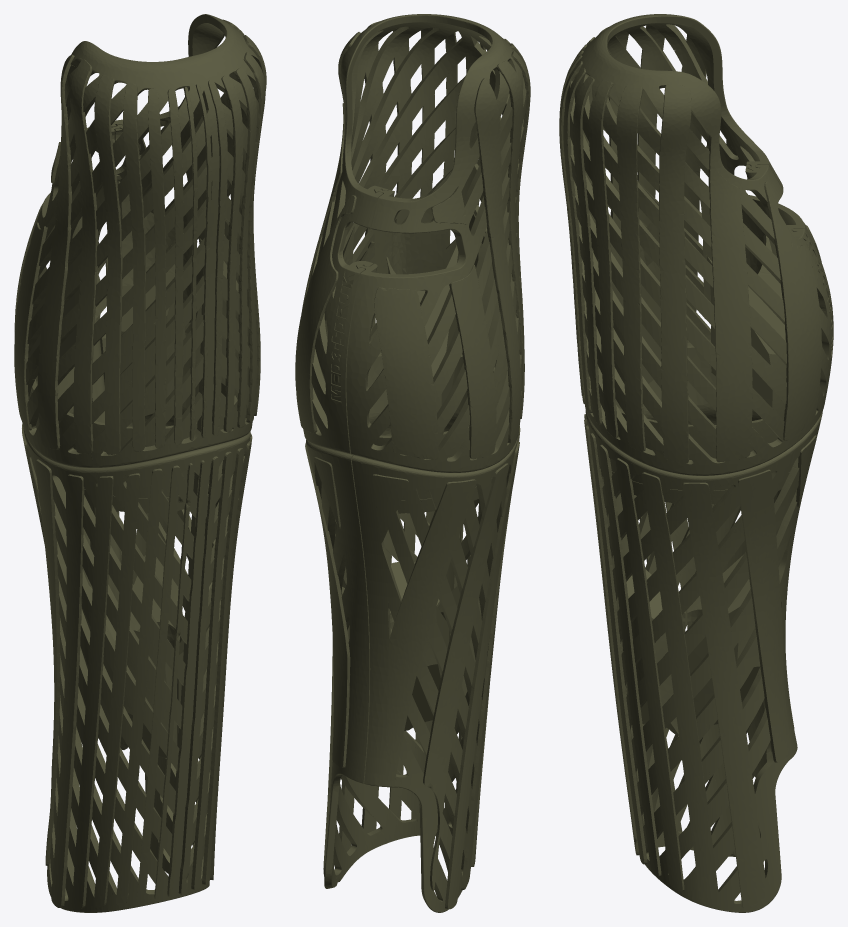
Rendered from cosmetic2.glb.
The picture shows the model from 3 angles, left to right: view 1: azimuth 30°, elevation 25°; view 2: azimuth 150°, elevation 25°; view 3: azimuth 270°, elevation 25°; orthographic projection. The views are drawn at different scales.
Visible parts, largest first — view 1: Project 3; view 2: Project 3; view 3: Project 3.
Boxes of the visible parts, bbox=[...] form: Project 3: bbox=[14, 14, 266, 912]; Project 3: bbox=[295, 14, 530, 912]; Project 3: bbox=[559, 14, 833, 912].
Size of the model in its own units: 123 by 501 by 148.
